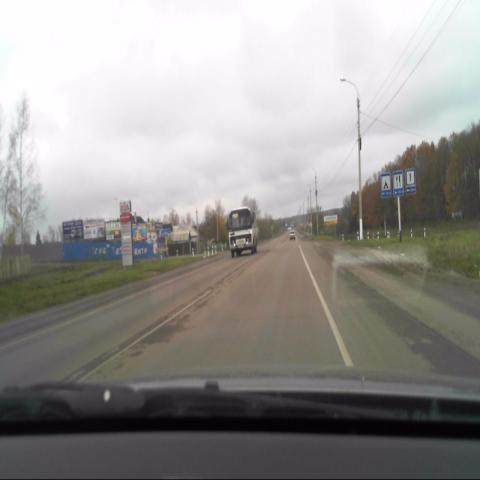7_4: (406, 168, 416, 196)
7_7: (393, 170, 404, 195)
